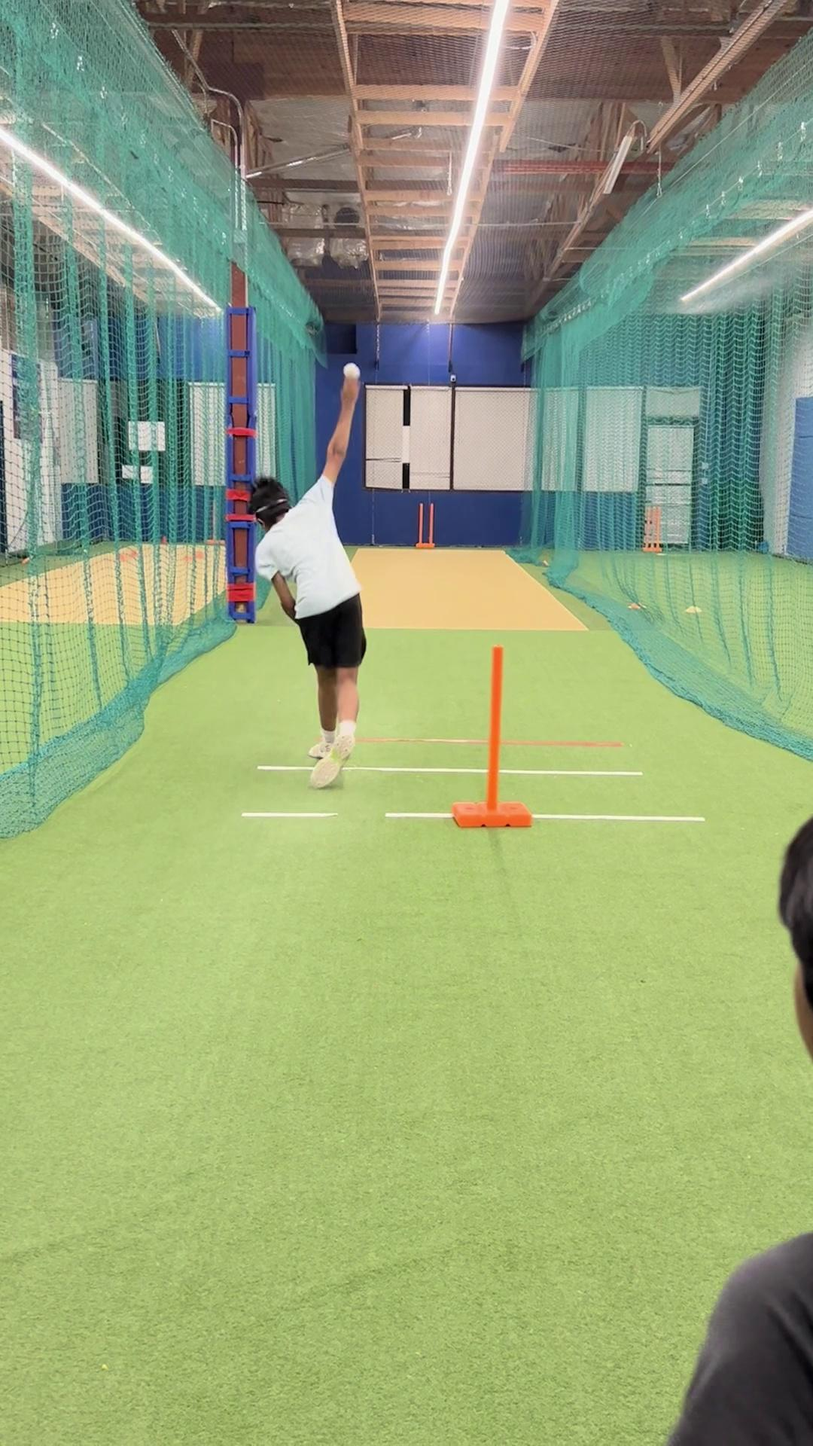ball: (338, 357, 365, 384)
